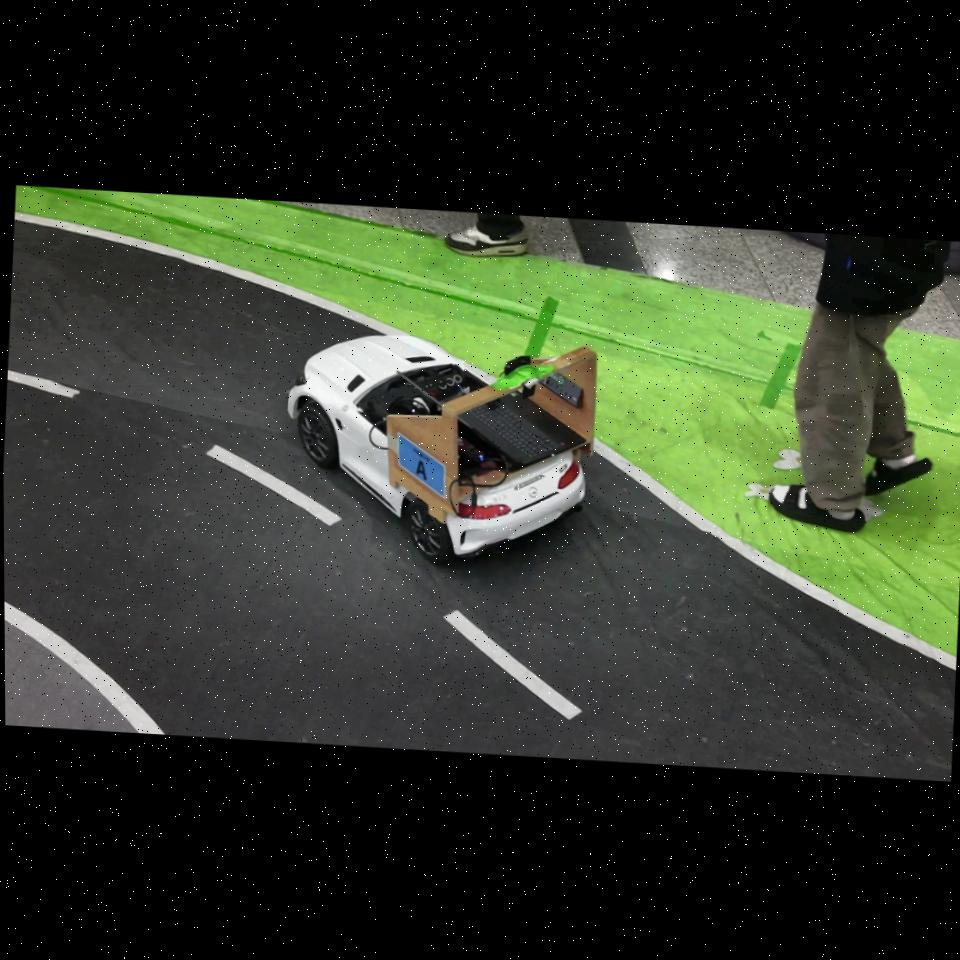broken_line: (443, 609, 583, 721), (205, 444, 343, 526), (7, 370, 81, 398)
